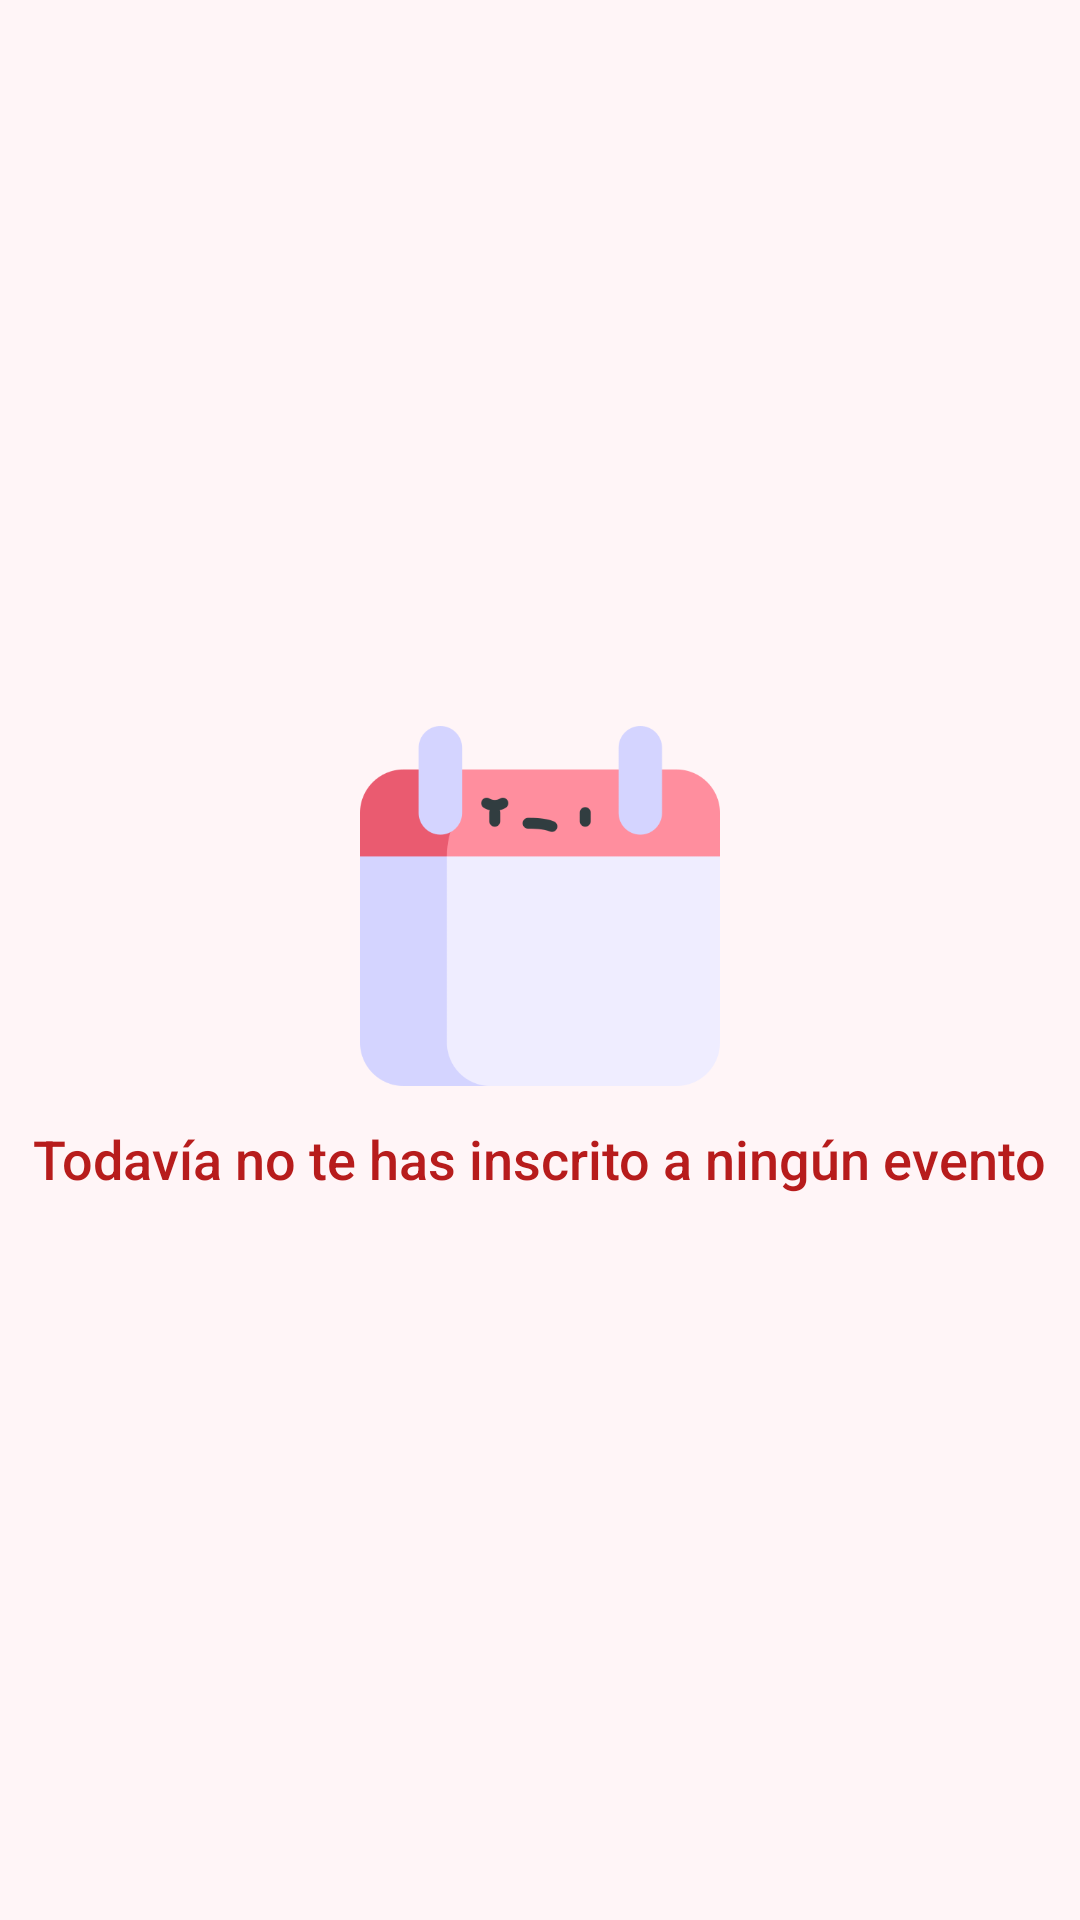

Named icons in this screenshot (1080 x 1920) and their centers, (x,y):
Ícono de calendario: (540,906)
